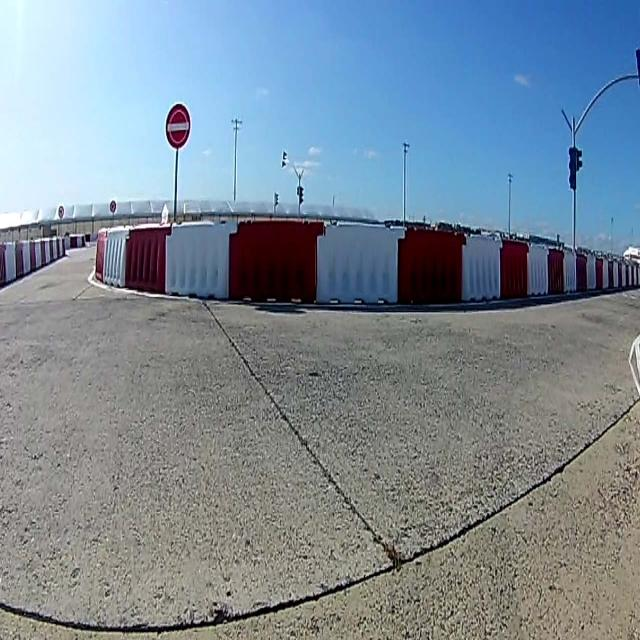girisyok: (164, 103, 190, 149)
